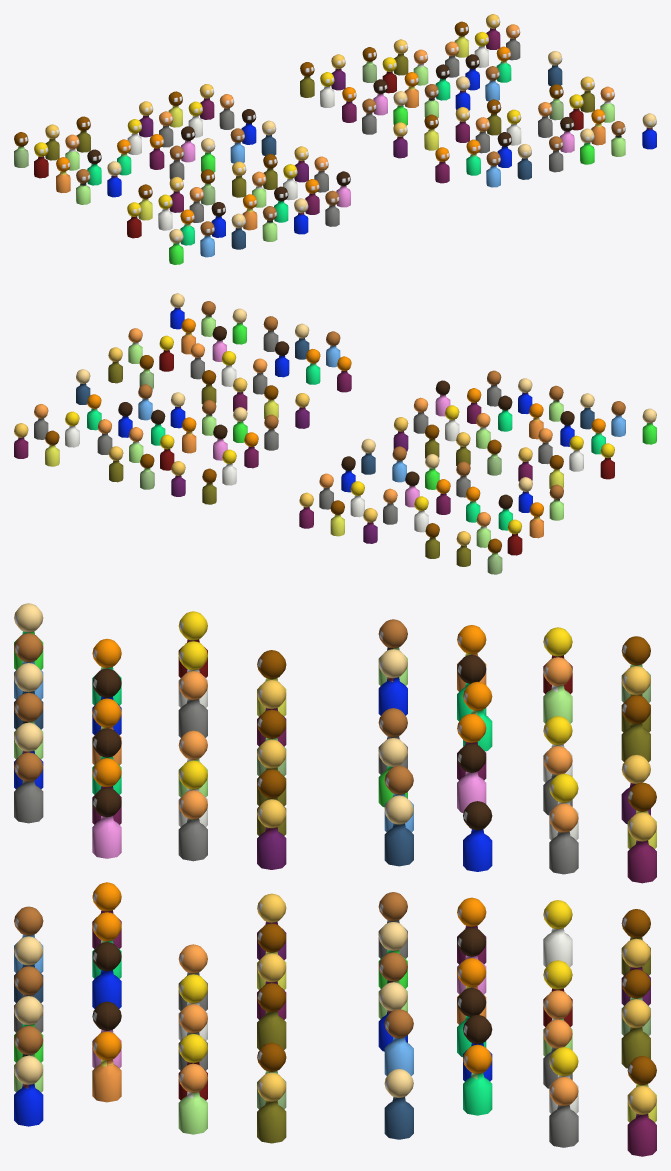
Rendered from TheatrePeople.fbx.
3 views of the same model, one above another, from view 1: azimuth 30°, elevation 25°; view 2: azimuth 150°, elevation 25°; view 3: azimuth 270°, elevation 25° (orthographic). The views are drawn at different scales.
Parts seen in each view (by area): view 1: FHumans.013, FHumans.084, FHumans.037, FHumans.048, FHumans.055, FHumans.057, FHumans.077, FHumans.056, FHumans.058, FHumans.063, FHumans.064, FHumans.070 (+82 smaller); view 2: FHumans.102, FHumans.103, FHumans.083, FHumans.042, FHumans.070, FHumans.069, FHumans.012, FHumans.041, FHumans.068, FHumans.081, FHumans.025, FHumans.063 (+75 smaller); view 3: FHumans.086, FHumans.013, FHumans.026, FHumans.025, FHumans.091, FHumans.038, FHumans.072, FHumans.021, FHumans.044, FHumans.087, FHumans.077, FHumans.019 (+82 smaller).
Part boxes in pixels (x1=…): FHumans.013: x1=219, y1=94, x2=234, y2=129; FHumans.084: x1=262, y1=206, x2=277, y2=241; FHumans.037: x1=149, y1=134, x2=164, y2=169; FHumans.048: x1=158, y1=194, x2=172, y2=230; FHumans.055: x1=424, y1=114, x2=438, y2=150; FHumans.057: x1=466, y1=139, x2=480, y2=175; FHumans.077: x1=325, y1=190, x2=339, y2=226; FHumans.056: x1=486, y1=151, x2=500, y2=187; FHumans.058: x1=580, y1=128, x2=594, y2=164; FHumans.063: x1=435, y1=147, x2=449, y2=183; FHumans.064: x1=393, y1=122, x2=407, y2=158; FHumans.070: x1=362, y1=98, x2=376, y2=134; FHumans.102: x1=507, y1=519, x2=522, y2=555; FHumans.103: x1=487, y1=538, x2=502, y2=574; FHumans.083: x1=487, y1=439, x2=501, y2=475; FHumans.042: x1=45, y1=430, x2=59, y2=466; FHumans.070: x1=264, y1=414, x2=278, y2=450; FHumans.069: x1=202, y1=468, x2=216, y2=504; FHumans.012: x1=383, y1=488, x2=397, y2=524; FHumans.041: x1=65, y1=411, x2=79, y2=447; FHumans.068: x1=222, y1=449, x2=236, y2=485; FHumans.081: x1=498, y1=395, x2=512, y2=431; FHumans.025: x1=361, y1=438, x2=375, y2=474; FHumans.063: x1=337, y1=356, x2=351, y2=392; FHumans.086: x1=257, y1=1072, x2=286, y2=1143; FHumans.013: x1=549, y1=803, x2=578, y2=874; FHumans.026: x1=463, y1=801, x2=492, y2=871; FHumans.025: x1=384, y1=795, x2=413, y2=866; FHumans.091: x1=92, y1=1031, x2=121, y2=1102; FHumans.038: x1=627, y1=1085, x2=656, y2=1156; FHumans.072: x1=257, y1=799, x2=286, y2=869; FHumans.021: x1=178, y1=1063, x2=207, y2=1134; FHumans.044: x1=463, y1=1044, x2=492, y2=1115; FHumans.087: x1=14, y1=1055, x2=43, y2=1126; FHumans.077: x1=14, y1=752, x2=43, y2=823; FHumans.019: x1=178, y1=790, x2=207, y2=861.
Bounding box in the file's own units: 1870 × 181 × 1093.
Materials: 2 (2 with a texture image).
